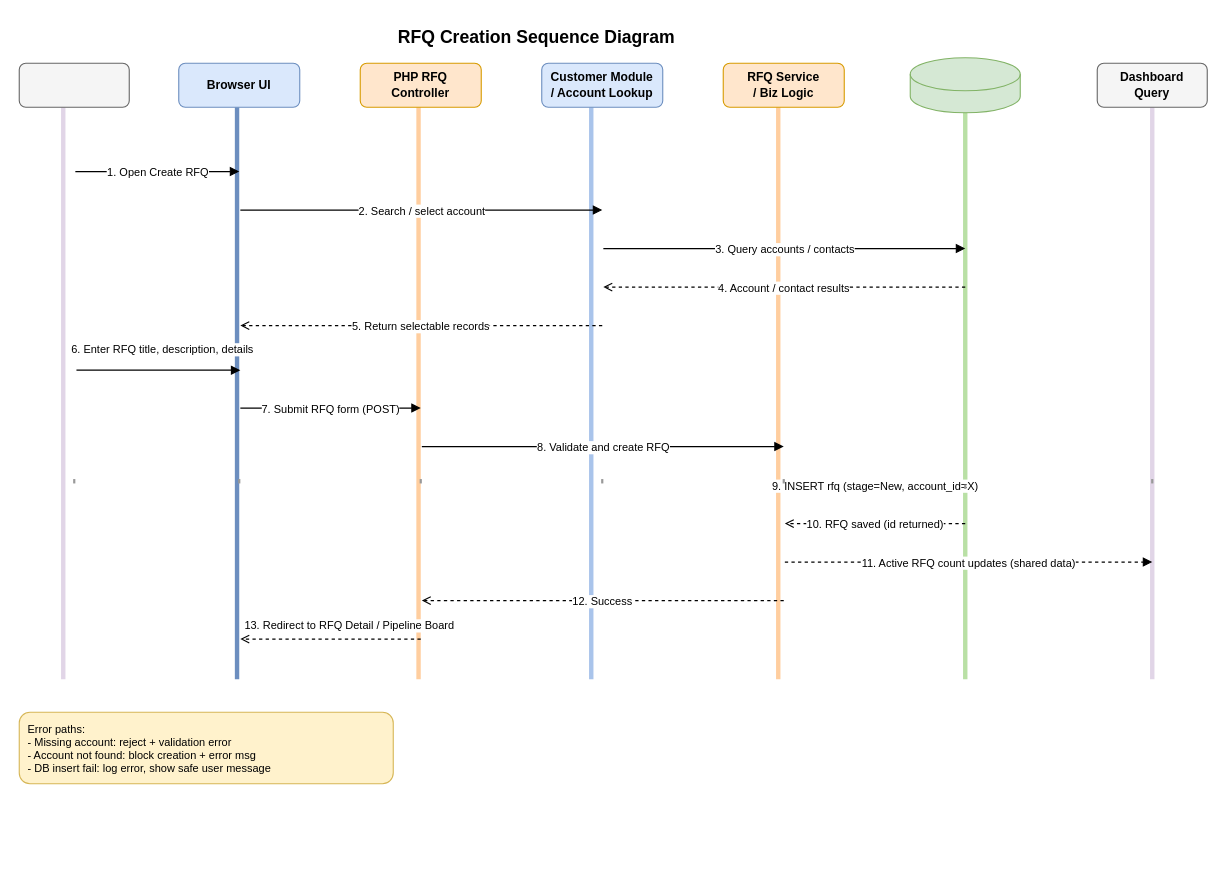
This 1227x881 diagram has some shape labels left out. The centre of each missing label's shape, as x and y in pixels:
"MySQL Database" goes at (964,85).
"Sales User" goes at (73,84).
